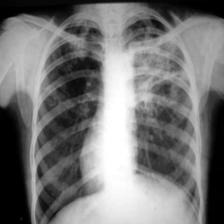tuberculosis: (25, 6, 208, 224)
